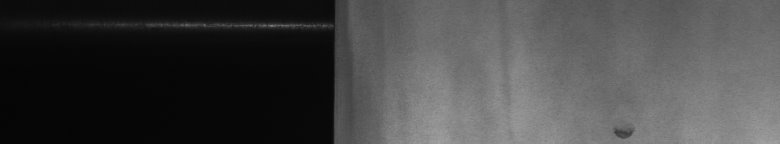fi: (608, 120, 639, 136)
